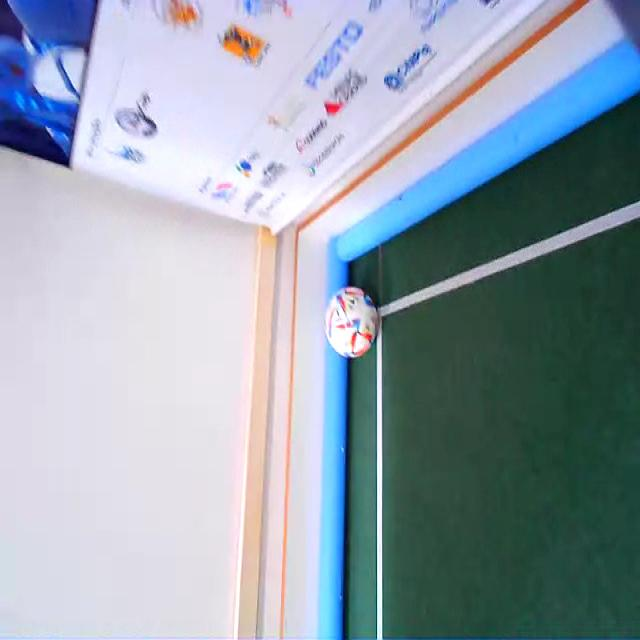ball: (327, 284, 378, 357)
